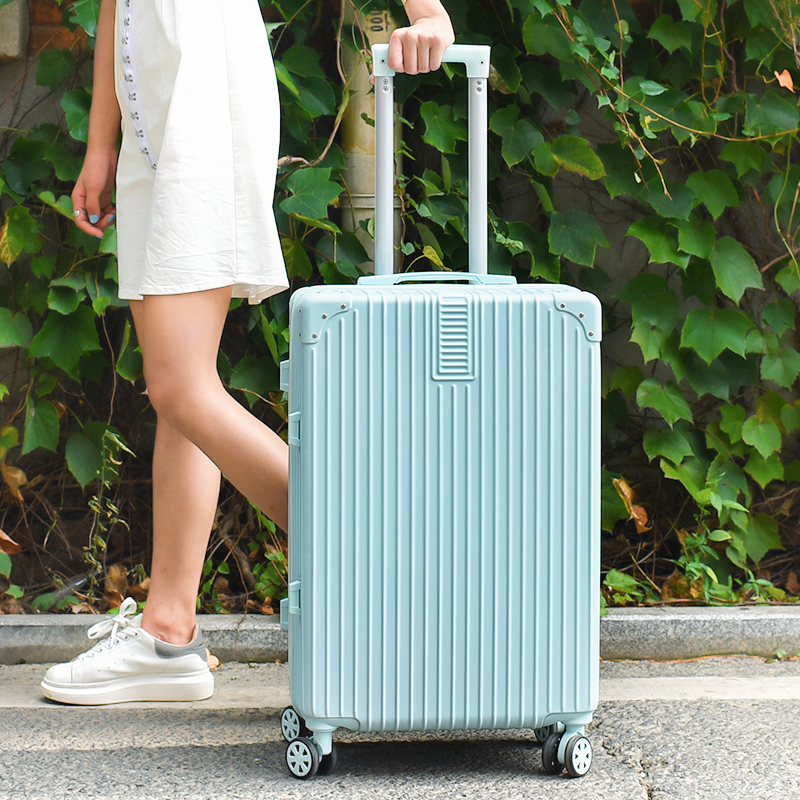box: (288, 283, 603, 733)
handle: (356, 270, 518, 286)
wheel: (541, 730, 592, 776), (286, 734, 338, 779), (281, 705, 309, 742)
